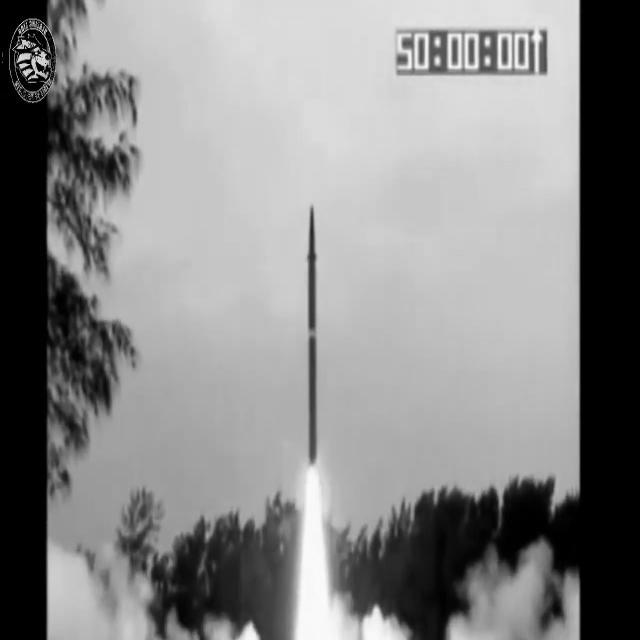missile: (306, 198, 318, 466)
